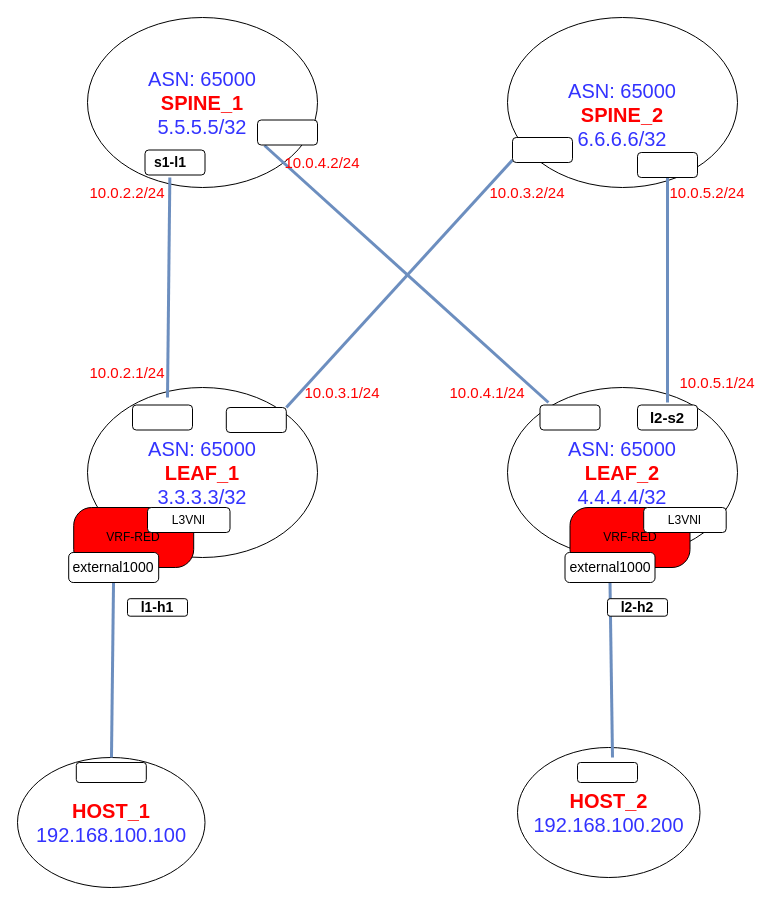
Image size: 772x905. Some labels were removed from this diagram. The centre of each missing label's shape, as x and y in pixels:
h1-l1: (x=110, y=772)
h2-l2: (x=607, y=772)
l1-s1: (x=162, y=417)
l1-s2: (x=255, y=419)
l2-s1: (x=569, y=417)
s1-l2: (x=287, y=132)
s2-l1: (x=542, y=149)
s2-l2: (x=667, y=165)
